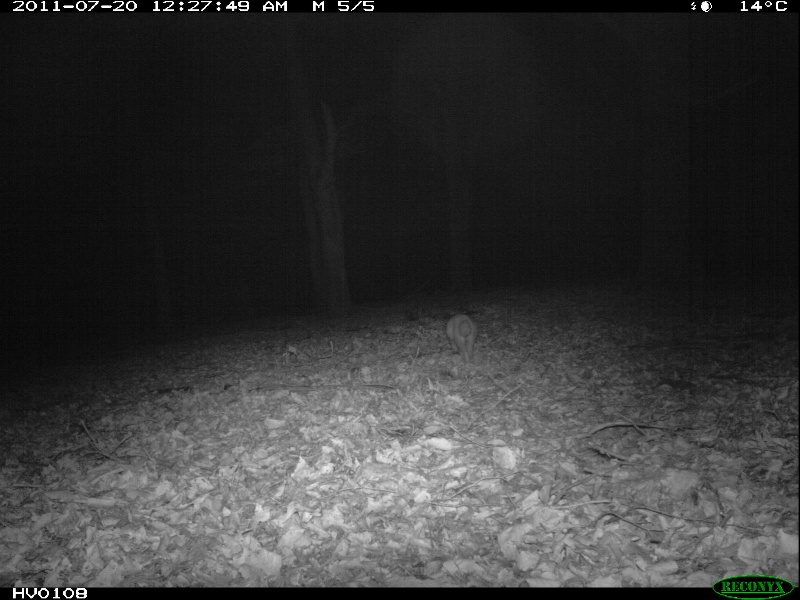fox: (444, 308, 483, 366)
